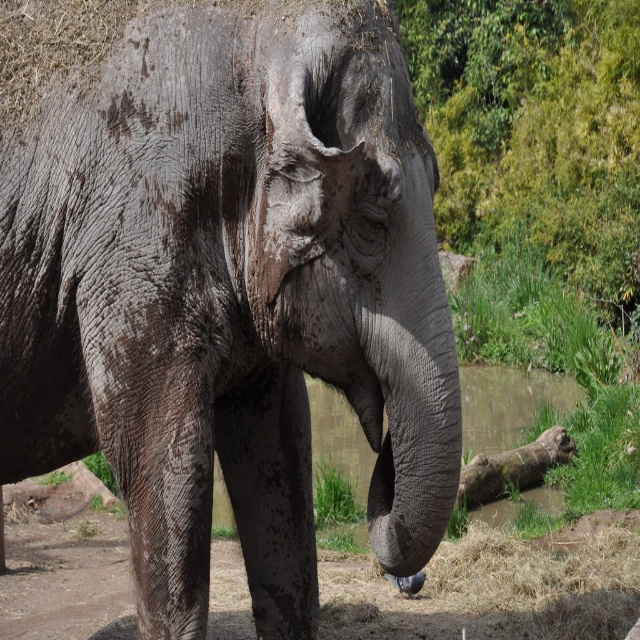Elephant: (8, 0, 472, 640)
